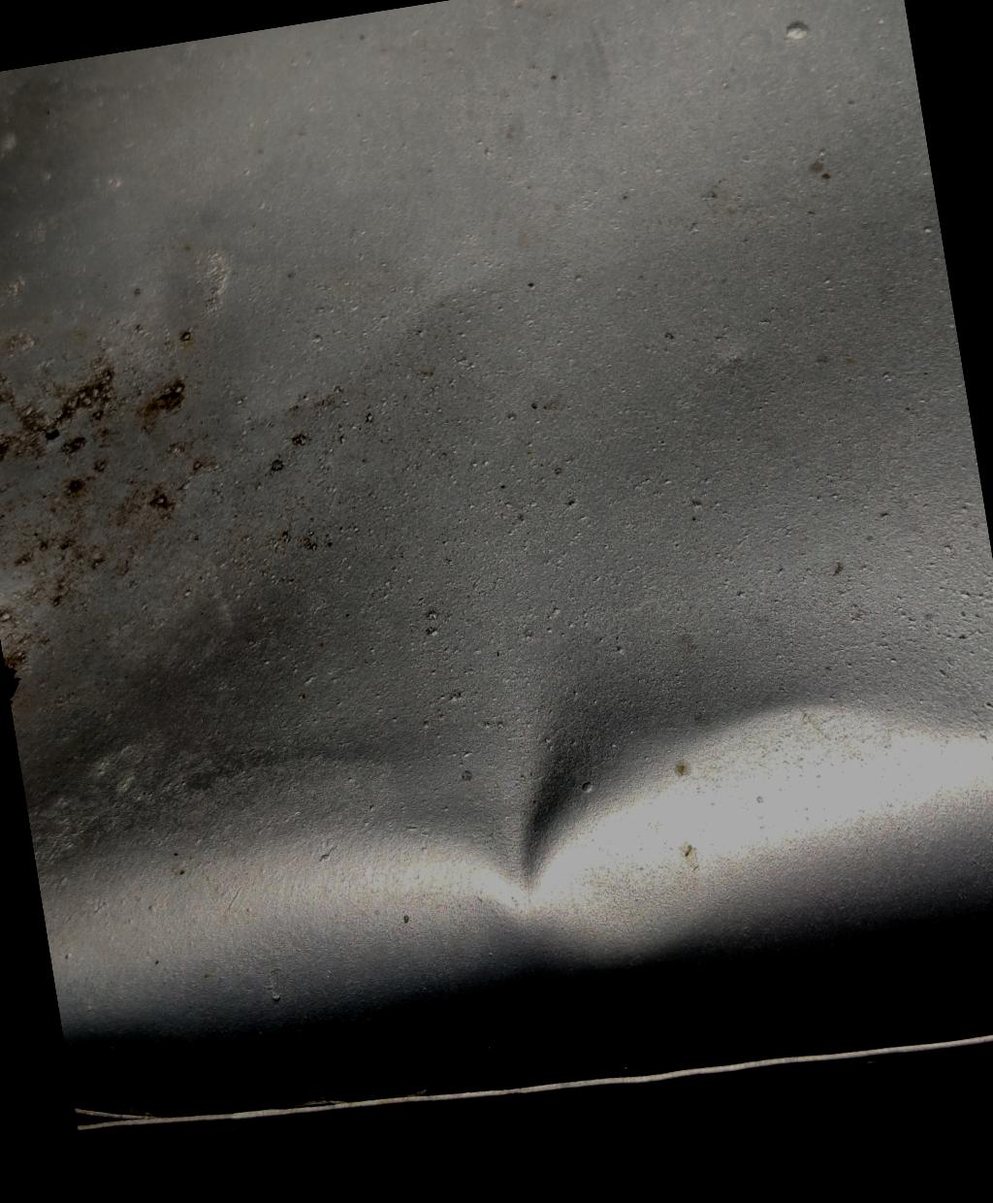dent: (386, 640, 681, 994)
